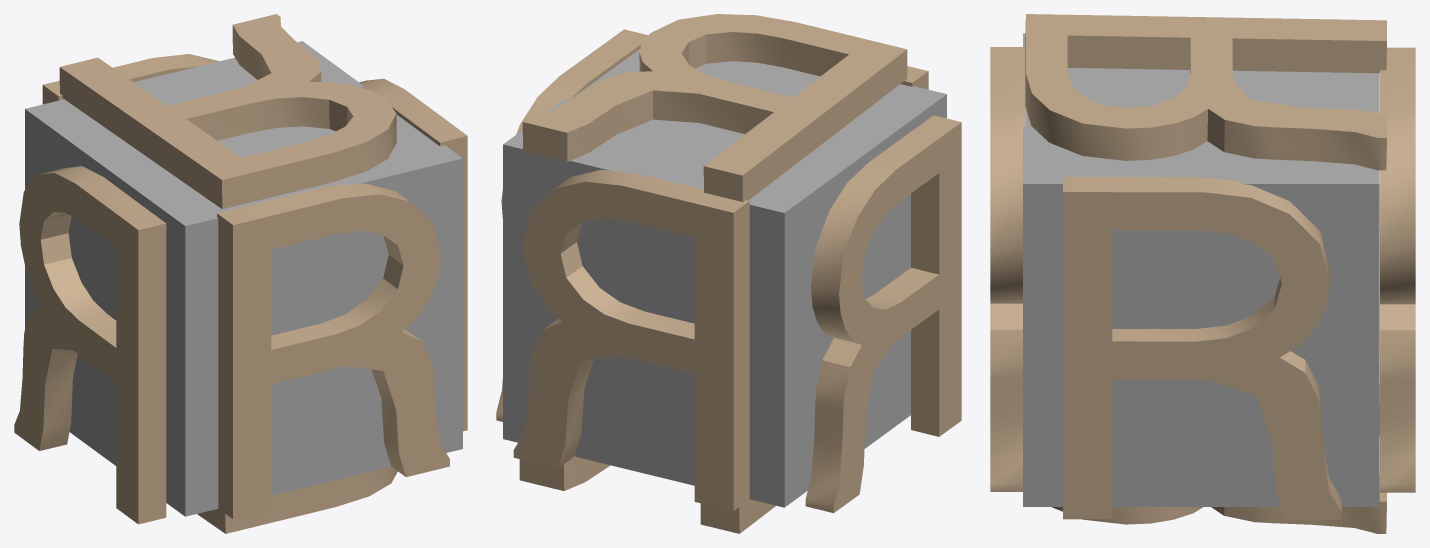
The model's file is LetterR.fbx.
3 renders of one model, left to right at view 1: azimuth 30°, elevation 25°; view 2: azimuth 150°, elevation 25°; view 3: azimuth 270°, elevation 25°, orthographic. The views are drawn at different scales.
Visible parts, largest first — view 1: Box, Text Front, Text Left, Text Top, Text Bottom, Text Right, Text Back; view 2: Box, Text Back, Text Left, Text Top, Text Bottom, Text Right; view 3: Box, Text Right, Text Top, Text Back, Text Front, Text Bottom.
Boxes of the visible parts, left/top/right/bottom form: Box: left=25, top=41, right=462, bottom=516; Text Front: left=217, top=183, right=449, bottom=519; Text Left: left=14, top=166, right=166, bottom=524; Text Top: left=59, top=14, right=396, bottom=209; Text Bottom: left=197, top=466, right=397, bottom=533; Text Right: left=359, top=78, right=467, bottom=431; Text Back: left=42, top=54, right=218, bottom=104; Box: left=503, top=25, right=946, bottom=507; Text Back: left=513, top=169, right=749, bottom=511; Text Left: left=805, top=115, right=961, bottom=513; Text Top: left=522, top=14, right=907, bottom=201; Text Bottom: left=519, top=456, right=775, bottom=533; Text Right: left=496, top=29, right=647, bottom=421; Box: left=1023, top=33, right=1379, bottom=506; Text Right: left=1063, top=177, right=1341, bottom=519; Text Top: left=1025, top=14, right=1386, bottom=170; Text Back: left=1380, top=47, right=1415, bottom=492; Text Front: left=990, top=47, right=1025, bottom=491; Text Bottom: left=1052, top=384, right=1386, bottom=533.
Size of the model in its own units: 1.2 by 1.24 by 1.19.
